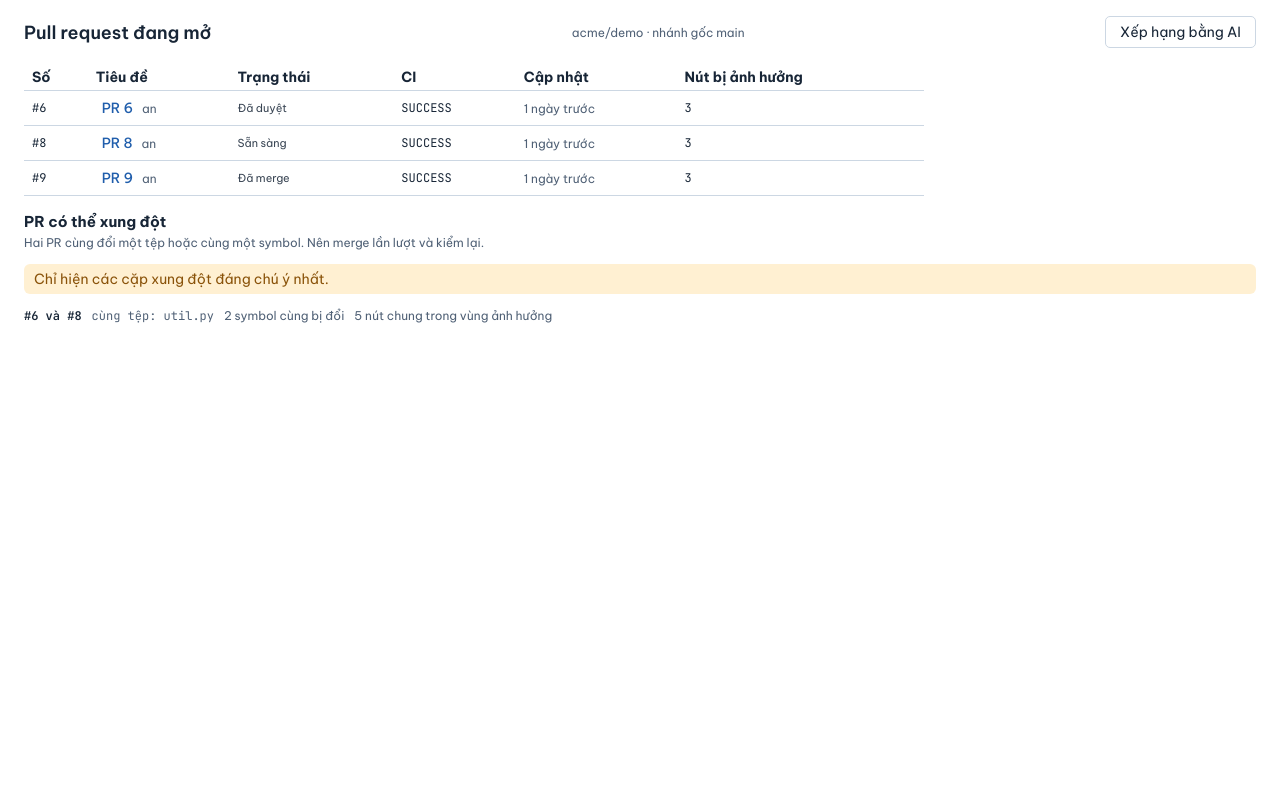
PrsView › nút Xếp hạng bằng AI mở hộp thoại đồng ý với target pr_triage
This screenshot has width=1280, height=800.
Click the button "Xếp hạng bằng AI" at (1180, 32), box [1105,16,1256,48]
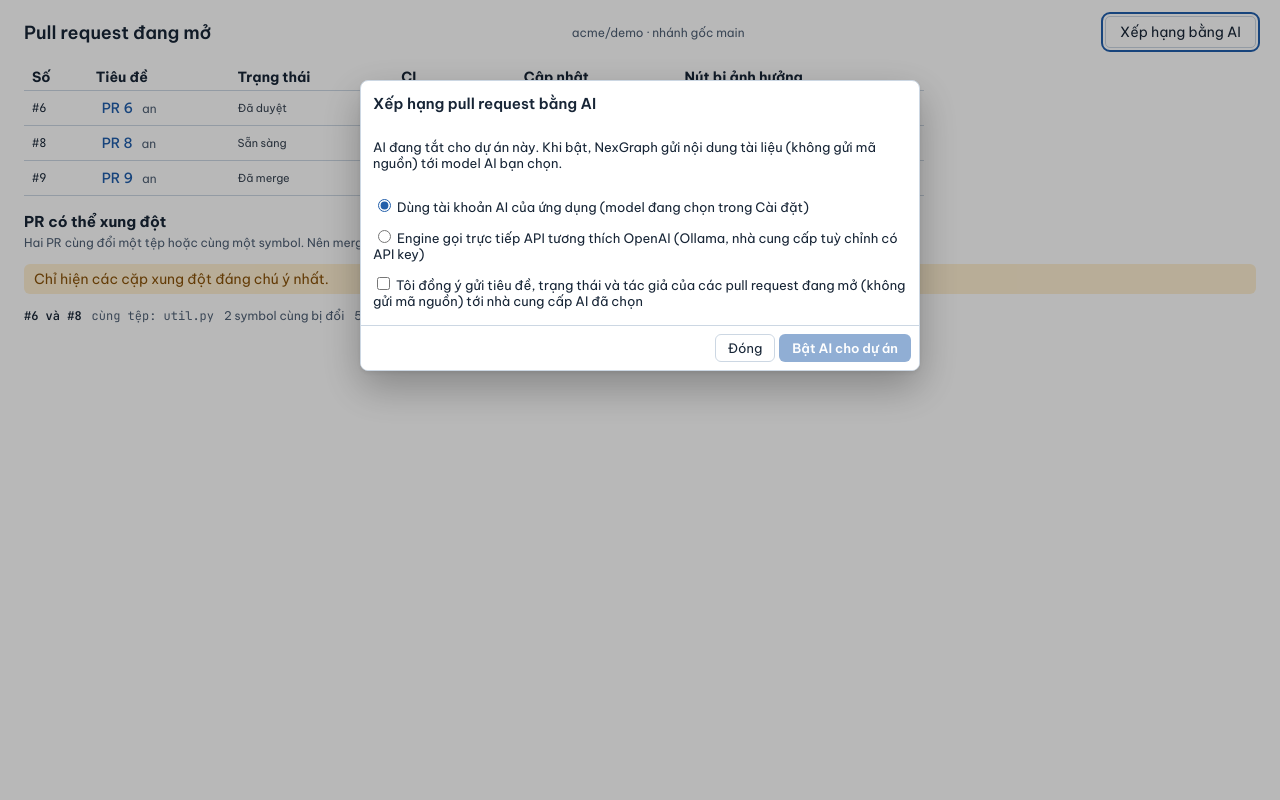
Now the dialog "Xếp hạng pull request bằng AI" is shown, box [360,80,920,371]
